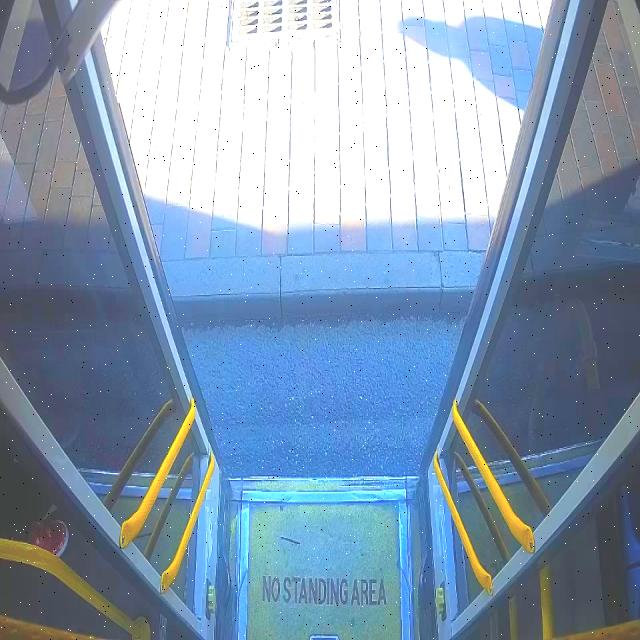open: (76, 1, 578, 487)
